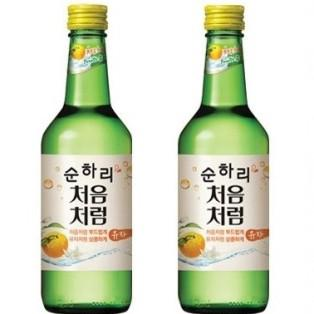soju: (174, 2, 273, 314), (38, 2, 135, 313)
